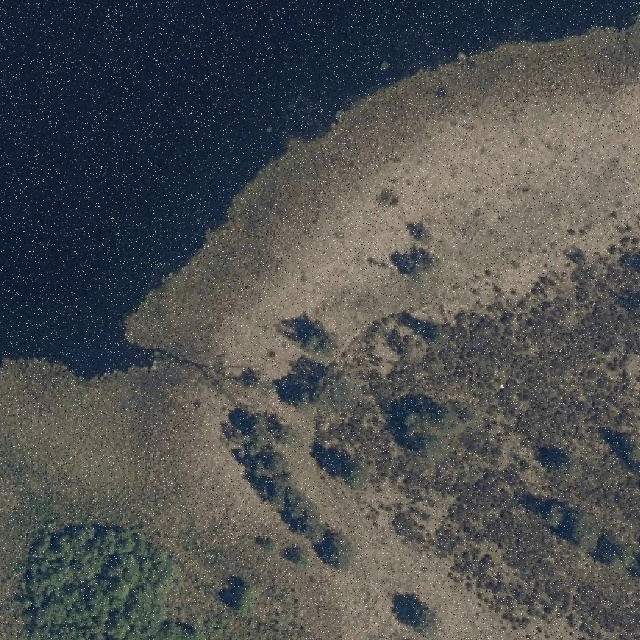vegetation: (16, 524, 199, 640), (229, 410, 357, 571), (538, 496, 640, 589), (384, 396, 461, 464), (278, 360, 337, 404), (315, 441, 368, 489), (393, 586, 436, 640), (219, 576, 260, 622), (611, 434, 640, 486), (545, 449, 580, 486)
